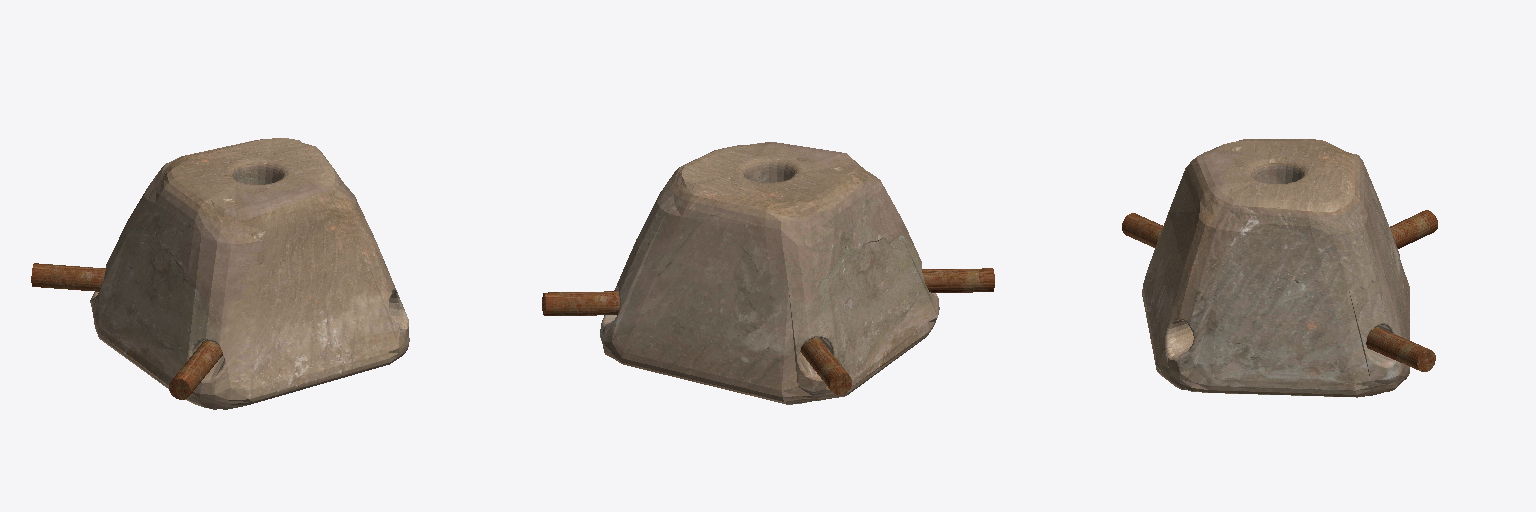
3 views of the same model, side by side, from view 1: azimuth 30°, elevation 25°; view 2: azimuth 150°, elevation 25°; view 3: azimuth 270°, elevation 25° (orthographic).
Parts seen in each view (by area): view 1: polySurface1; view 2: polySurface1; view 3: polySurface1.
Part boxes in pixels (left/top/right/bottom): polySurface1: left=31, top=138, right=409, bottom=409; polySurface1: left=542, top=142, right=994, bottom=404; polySurface1: left=1122, top=139, right=1437, bottom=397.
Bounding box in the file's own units: 112 × 57.81 × 97.59.
Materials: 2 (2 with a texture image).